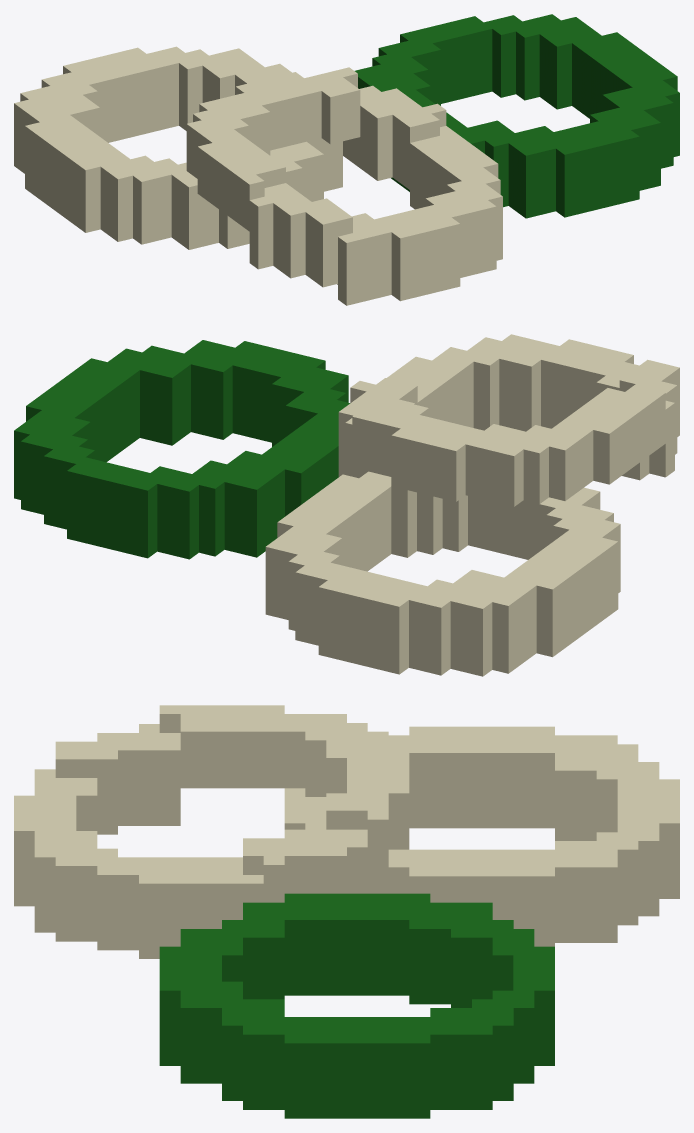
File: ingredients.vox-7-greenonion_sliced.obj
The picture shows the model from 3 angles, top to bottom: view 1: azimuth 30°, elevation 25°; view 2: azimuth 150°, elevation 25°; view 3: azimuth 270°, elevation 25°; orthographic projection. The views are drawn at different scales.
Visible parts, largest first — view 1: greenonion_sliced; view 2: greenonion_sliced; view 3: greenonion_sliced.
Part boxes in pixels (box(x1,y1,x2,y2)): greenonion_sliced: box(14, 14, 679, 305); greenonion_sliced: box(14, 334, 679, 676); greenonion_sliced: box(14, 705, 679, 1118).
Bounding box in the file's own units: 3.6 × 0.7 × 3.2.
Materials: 1 (1 with a texture image).
